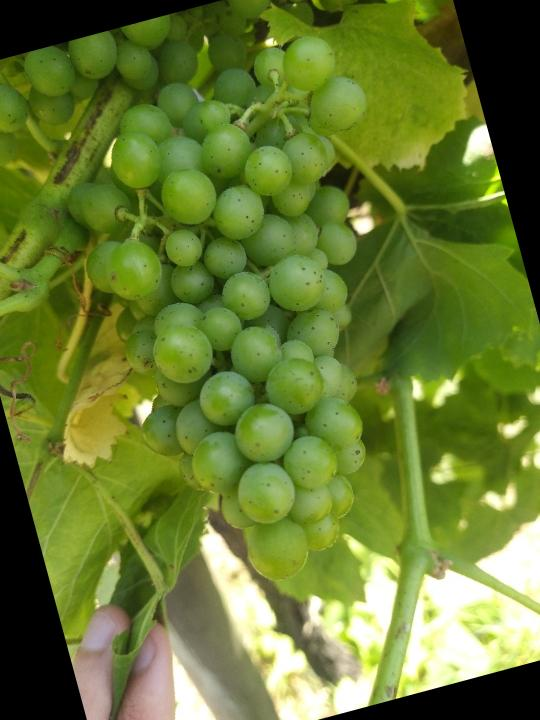grape: (38, 21, 486, 612)
